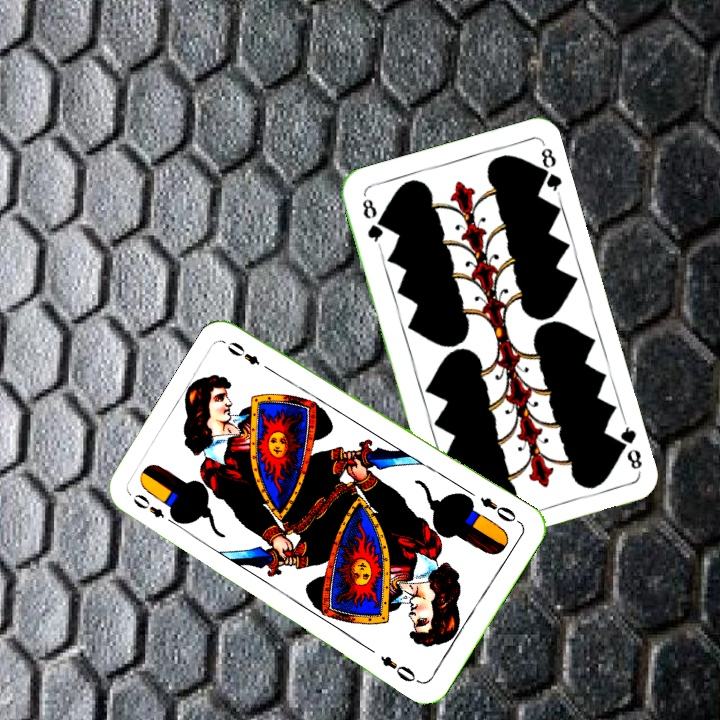EO: (129, 489, 181, 529), (476, 493, 523, 526)
G8: (611, 418, 645, 472), (358, 194, 386, 250)
